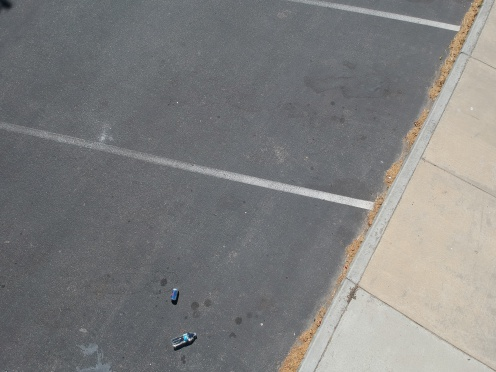bottle: (164, 330, 198, 350)
can: (166, 284, 182, 303)
